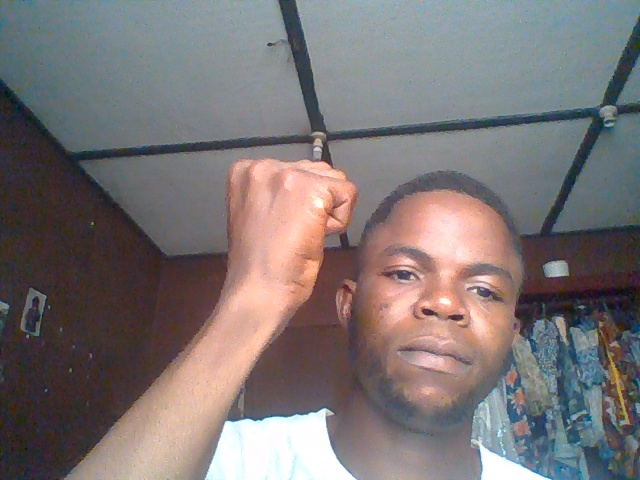Unity: (224, 154, 360, 304)
